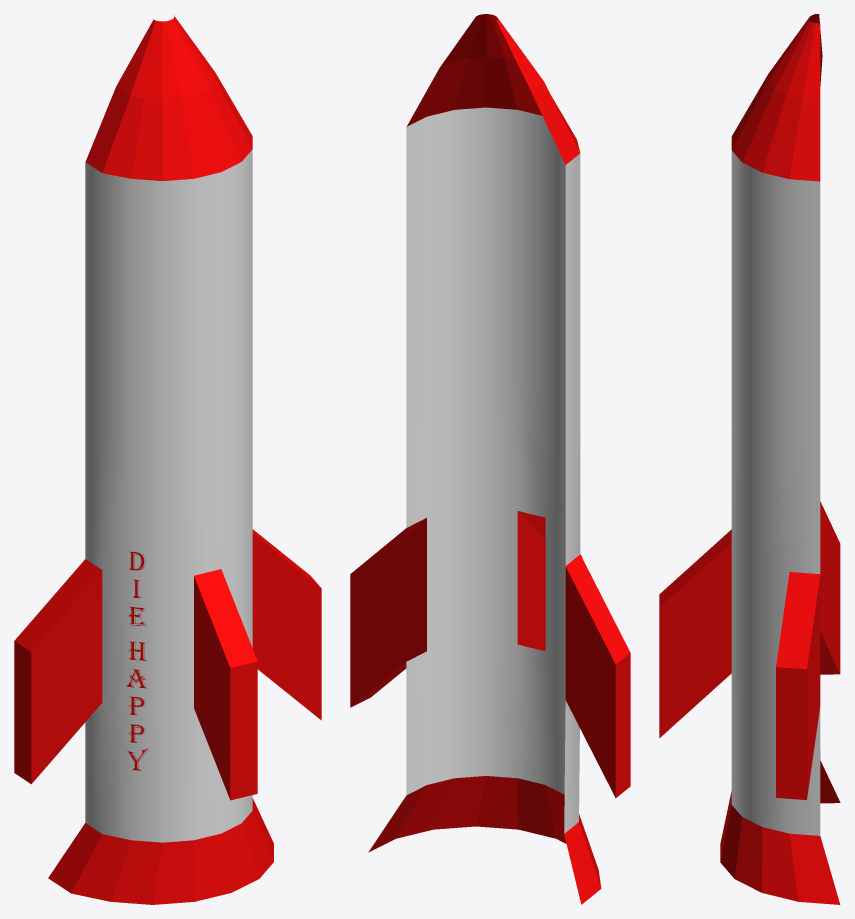
The model's file is Missile.FBX.
The picture shows the model from 3 angles, left to right: view 1: azimuth 30°, elevation 25°; view 2: azimuth 150°, elevation 25°; view 3: azimuth 270°, elevation 25°; orthographic projection. The views are drawn at different scales.
Visible parts, largest first — view 1: Cylinder001; view 2: Cylinder001; view 3: Cylinder001.
Part boxes in pixels (x1=…): Cylinder001: x1=14, y1=16, x2=321, y2=904; Cylinder001: x1=350, y1=14, x2=630, y2=904; Cylinder001: x1=659, y1=14, x2=840, y2=904.
Bounding box in the file's own units: 8.84 × 25.51 × 5.02.
